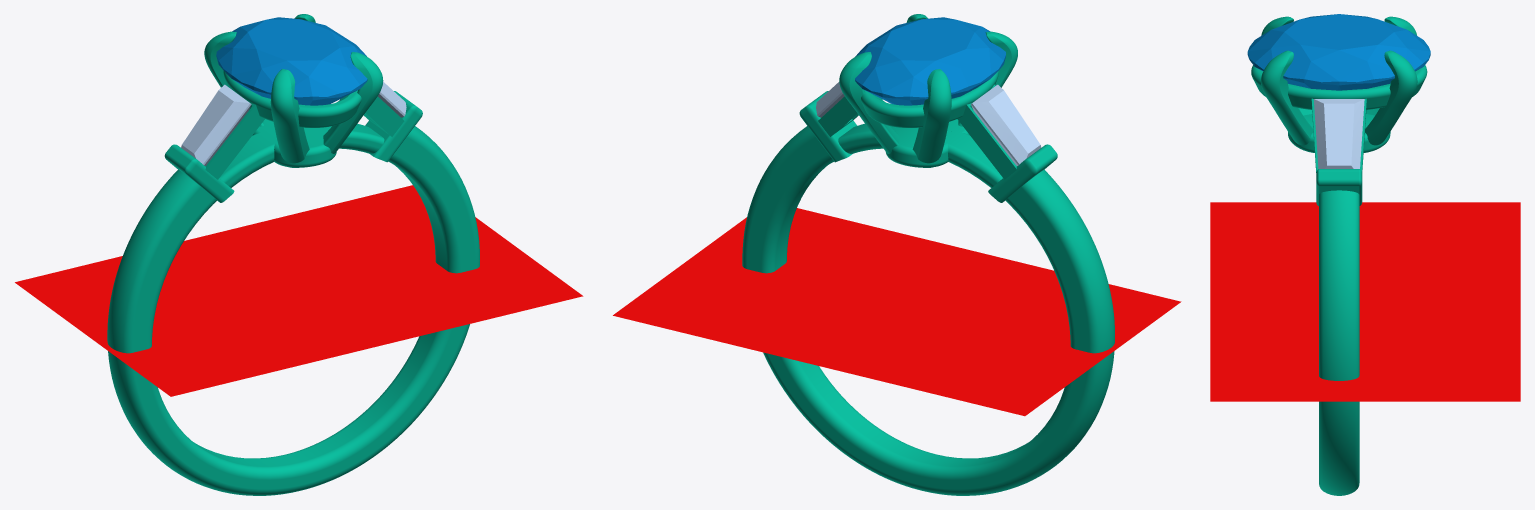
3 renders of one model, left to right at view 1: azimuth 30°, elevation 25°; view 2: azimuth 150°, elevation 25°; view 3: azimuth 270°, elevation 25°, orthographic.
Visible parts, largest first — view 1: RING.JTC.SRO13(front).3dm, Diamond_Oval, Head Prong (×3), Custom_Baguette_v1.0_Length4.000000_BottomWidth2.500000_TopW; view 2: RING.JTC.SRO13(front).3dm, Diamond_Oval, Head Prong (×3), Custom_Baguette_v1.0_Length4.000000_BottomWidth2.500000_TopW; view 3: RING.JTC.SRO13(front).3dm, Diamond_Oval, Head Prong (×2), Custom_Baguette_v1.0_Length4.000000_BottomWidth2.500000_TopW.
Part boxes in pixels (x1=…): RING.JTC.SRO13(front).3dm: x1=15, y1=71, x2=583, y2=495; Diamond_Oval: x1=216, y1=17, x2=367, y2=105; Head Prong (×3): x1=204, y1=31, x2=383, y2=167; Custom_Baguette_v1.0_Length4.000000_BottomWidth2.500000_TopW: x1=181, y1=84, x2=251, y2=165; RING.JTC.SRO13(front).3dm: x1=613, y1=71, x2=1181, y2=495; Diamond_Oval: x1=855, y1=17, x2=1005, y2=105; Head Prong (×3): x1=839, y1=31, x2=1017, y2=167; Custom_Baguette_v1.0_Length4.000000_BottomWidth2.500000_TopW: x1=971, y1=84, x2=1041, y2=165; RING.JTC.SRO13(front).3dm: x1=1210, y1=65, x2=1520, y2=495; Diamond_Oval: x1=1247, y1=14, x2=1430, y2=90; Head Prong (×2): x1=1261, y1=50, x2=1417, y2=145; Custom_Baguette_v1.0_Length4.000000_BottomWidth2.500000_TopW: x1=1313, y1=99, x2=1364, y2=168.
Size of what is drawn, in the model's own units: 2.82 by 2.93 by 1.85.
